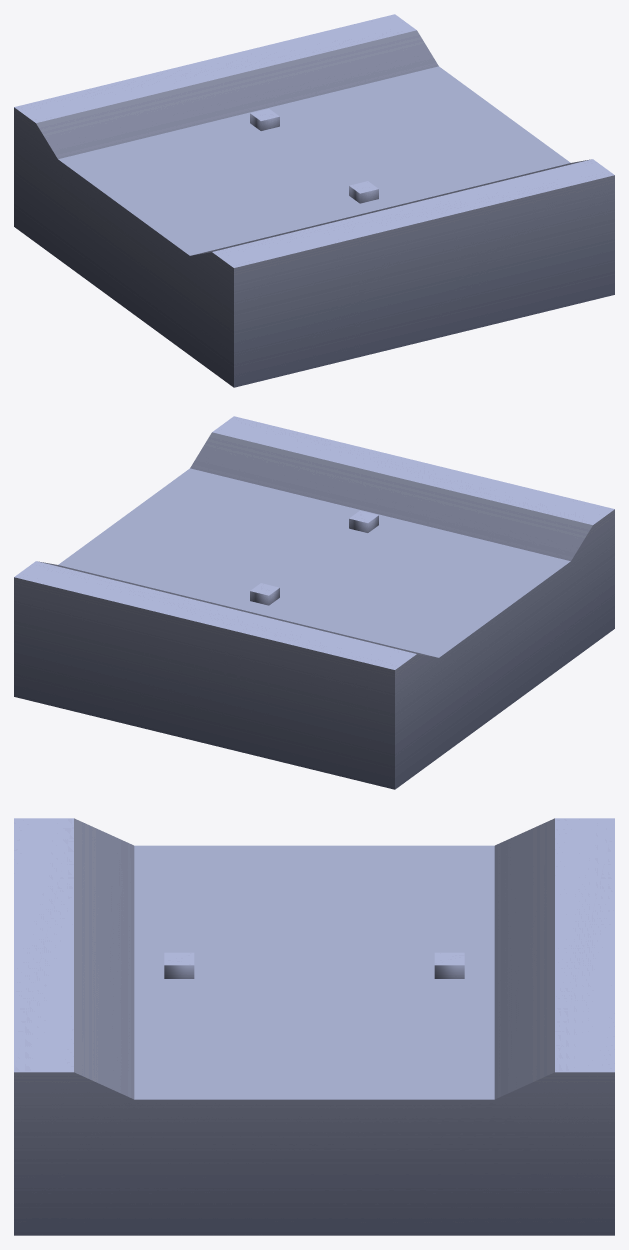
Rendered from floor-panel-straight.glb.
The picture shows the model from 3 angles, top to bottom: view 1: azimuth 30°, elevation 25°; view 2: azimuth 150°, elevation 25°; view 3: azimuth 270°, elevation 25°; orthographic projection. The views are drawn at different scales.
Visible parts, largest first — view 1: floor-panel-straight; view 2: floor-panel-straight; view 3: floor-panel-straight.
Boxes of the visible parts, box(x1,y1,x2,y2) form: floor-panel-straight: box(14, 14, 614, 387); floor-panel-straight: box(14, 416, 614, 789); floor-panel-straight: box(14, 818, 614, 1235).
Bounding box in the file's own units: 1 × 0.3 × 1.
Materials: 1 (1 with a texture image).
